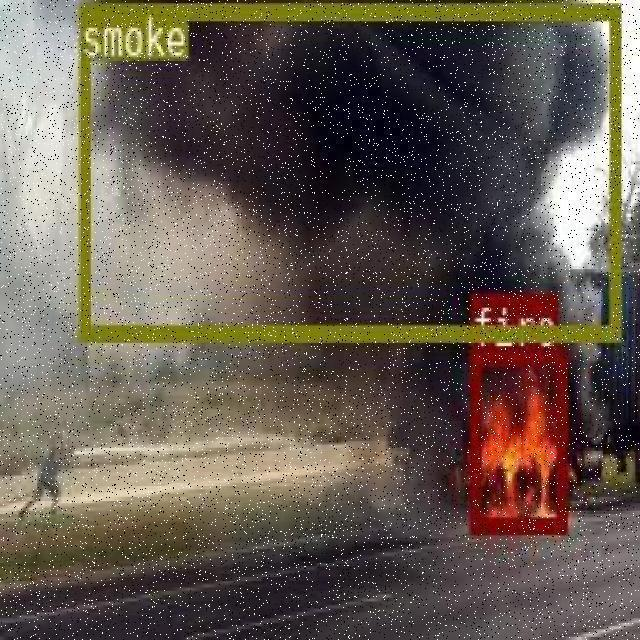Smoke: (79, 1, 619, 338)
